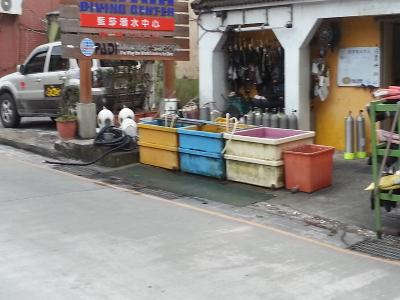box: (223, 125, 316, 190), (176, 121, 261, 180), (136, 117, 207, 171), (285, 142, 336, 194)
